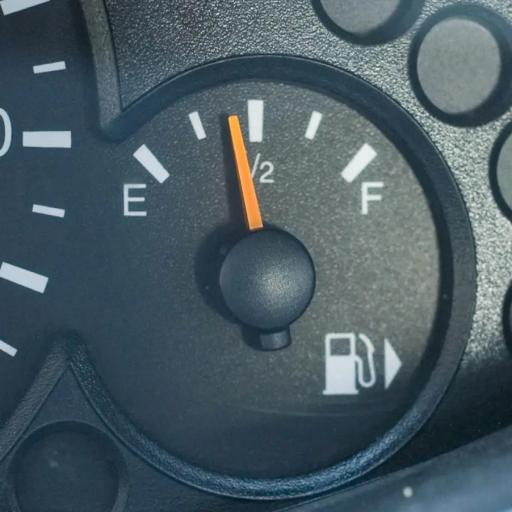empty: (122, 180, 151, 218)
fuel_icon: (321, 330, 378, 398)
full: (358, 178, 388, 216)
guage_area: (47, 24, 512, 506)
needle_center: (220, 216, 318, 330)
needle_tip: (215, 110, 247, 140)
